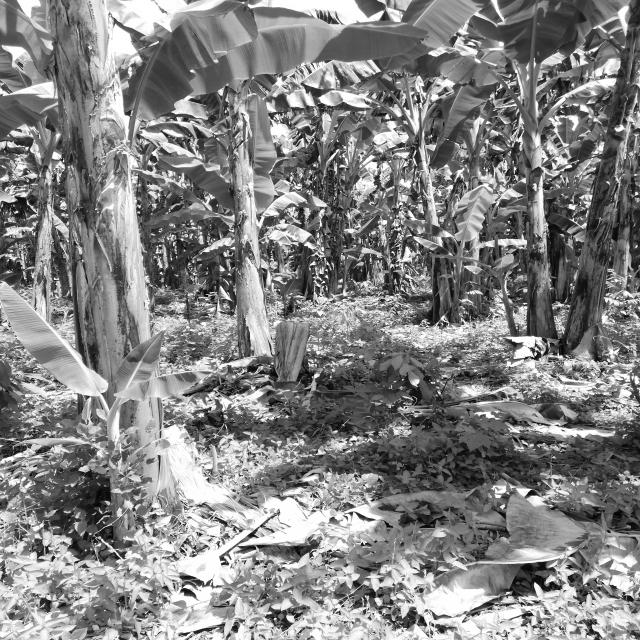Banana-plant: (42, 11, 171, 504), (570, 12, 640, 364), (227, 64, 274, 378), (504, 81, 558, 345), (404, 113, 453, 331)
